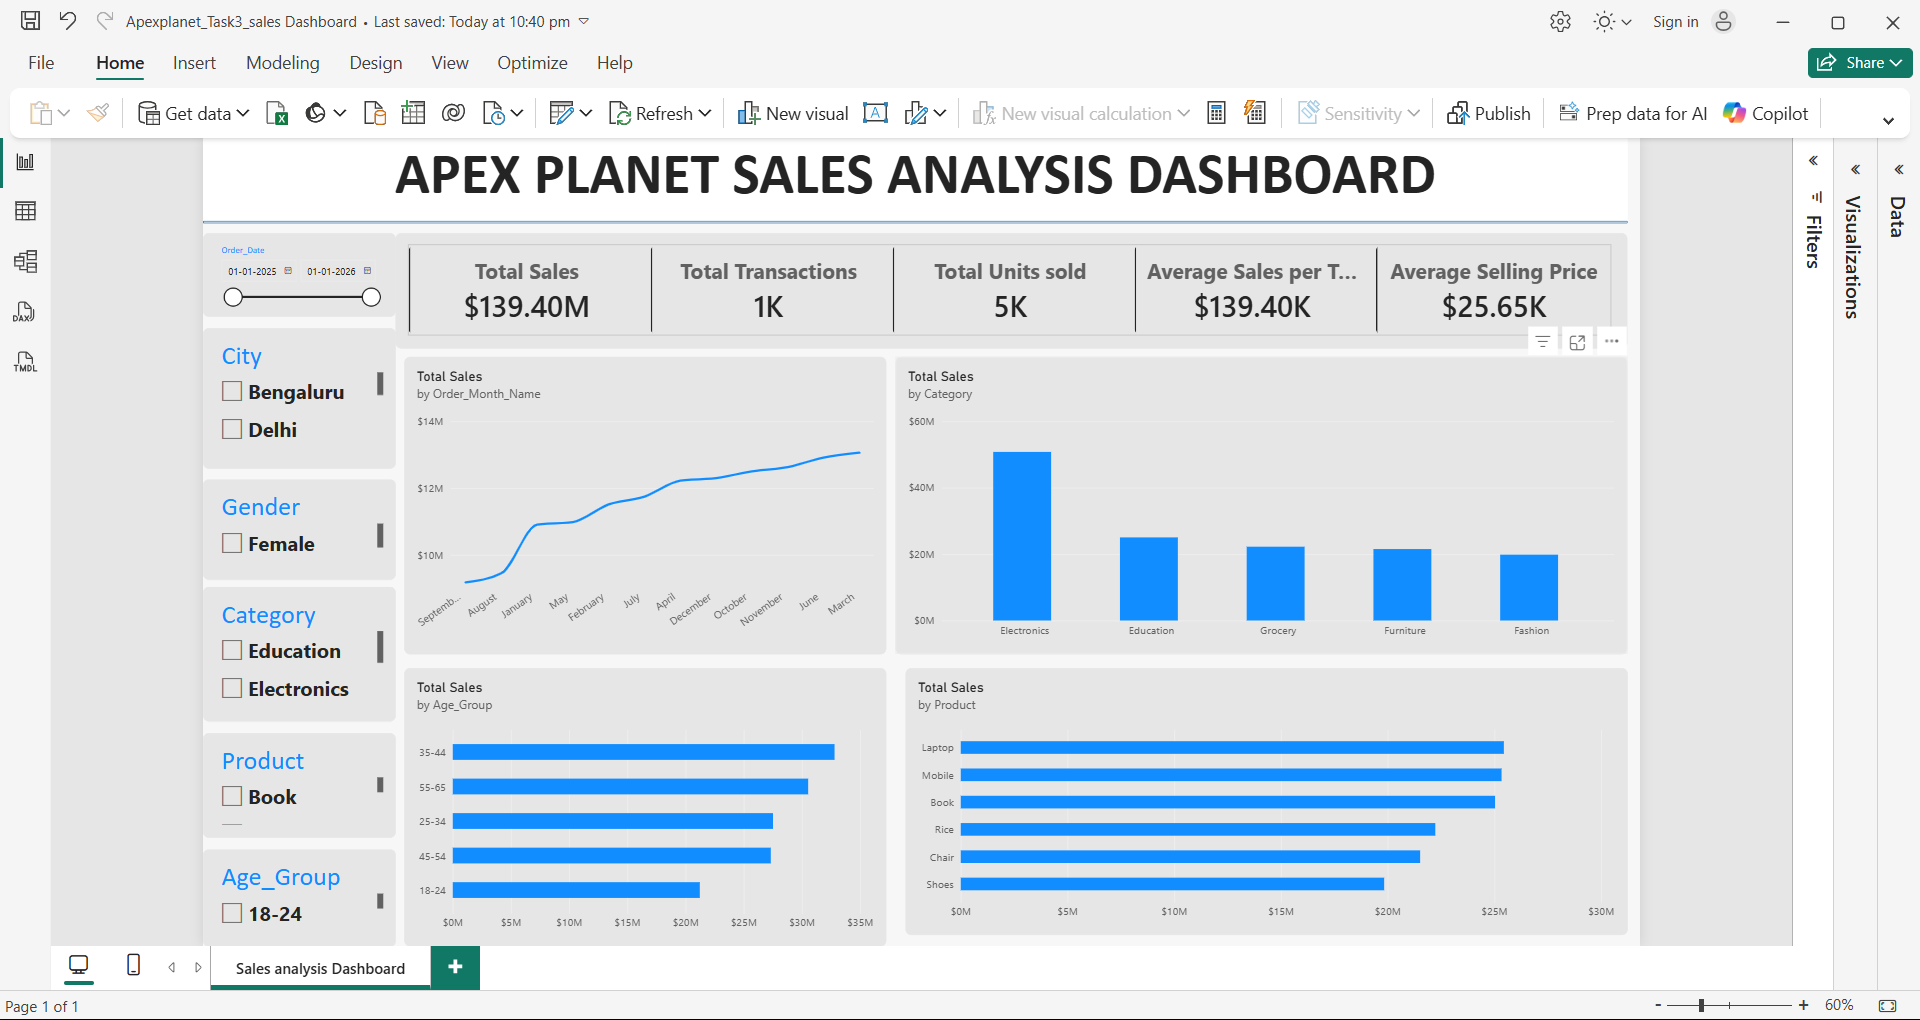

The page's visual inventory and layout, read from the dashboard file:
{"tool":"powerbi","page":{"name":"Page 1","canvas":[1920,1080],"ordinal":0},"visuals":[{"type":"cardVisual","fields":{"Data":["cleaned_sales_dataset.Total Sales","cleaned_sales_dataset.Total Transactions","cleaned_sales_dataset.Total Units sold","cleaned_sales_dataset.Average Sales per Transactions","cleaned_sales_dataset.Average Selling Price"]},"box":[257.7,127,1645.4,154.6],"z":0},{"type":"lineChart","fields":{"Category":["cleaned_sales_dataset.Order_Month_Name"],"Y":["cleaned_sales_dataset.Total Sales"]},"box":[268.8,292.2,644.2,397.5],"z":1000},{"type":"clusteredBarChart","fields":{"Category":["cleaned_sales_dataset.Product"],"Y":["cleaned_sales_dataset.Total Sales"]},"box":[938.7,708.6,964.4,357.1],"z":2000},{"type":"clusteredColumnChart","fields":{"Category":["cleaned_sales_dataset.Category"],"Y":["cleaned_sales_dataset.Total Sales"]},"box":[925.8,292.6,977.3,397.5],"z":3000},{"type":"clusteredBarChart","fields":{"Category":["cleaned_sales_dataset.Age_Group"],"Y":["cleaned_sales_dataset.Total Sales"]},"box":[268.8,708,644.2,371.8],"z":4000},{"type":"shape","title":"APEX PLANET SALES ANALYSIS DASHBOARD","box":[0,0,1903.1,114.1],"z":5000},{"type":"slicer","fields":{"Values":["cleaned_sales_dataset.Order_Date"]},"box":[0,127,257.7,112.3],"z":6000},{"type":"slicer","fields":{"Values":["cleaned_sales_dataset.City"]},"box":[0,254,257.7,187.7],"z":7000},{"type":"slicer","fields":{"Values":["cleaned_sales_dataset.Gender"]},"box":[0,456.4,257.7,134.4],"z":8000},{"type":"slicer","fields":{"Values":["cleaned_sales_dataset.Category"]},"box":[0,600,257.7,180.4],"z":9000},{"type":"slicer","fields":{"Values":["cleaned_sales_dataset.Product"]},"box":[0,795.1,257.7,139.9],"z":10000},{"type":"slicer","fields":{"Values":["cleaned_sales_dataset.Age_Group"]},"box":[0,949.7,257.7,130.7],"z":11000}]}

Visuals, with their boxes on the page's 1920x1080 design canvas (x1, y1, x2, y2). These are canvas units, not pixel positions in the 1920x1020 screenshot, which may show the page scaled, cropped or inside an application window:
cardVisual - cleaned_sales_dataset.Total Sales x cleaned_sales_dataset.Total Transactions: l=258, t=127, r=1903, b=282
lineChart - cleaned_sales_dataset.Order_Month_Name x cleaned_sales_dataset.Total Sales: l=269, t=292, r=913, b=690
clusteredBarChart - cleaned_sales_dataset.Product x cleaned_sales_dataset.Total Sales: l=939, t=709, r=1903, b=1066
clusteredColumnChart - cleaned_sales_dataset.Category x cleaned_sales_dataset.Total Sales: l=926, t=293, r=1903, b=690
clusteredBarChart - cleaned_sales_dataset.Age_Group x cleaned_sales_dataset.Total Sales: l=269, t=708, r=913, b=1080
"APEX PLANET SALES ANALYSIS DASHBOARD" shape: l=0, t=0, r=1903, b=114
slicer - cleaned_sales_dataset.Order_Date: l=0, t=127, r=258, b=239
slicer - cleaned_sales_dataset.City: l=0, t=254, r=258, b=442
slicer - cleaned_sales_dataset.Gender: l=0, t=456, r=258, b=591
slicer - cleaned_sales_dataset.Category: l=0, t=600, r=258, b=780
slicer - cleaned_sales_dataset.Product: l=0, t=795, r=258, b=935
slicer - cleaned_sales_dataset.Age_Group: l=0, t=950, r=258, b=1080
